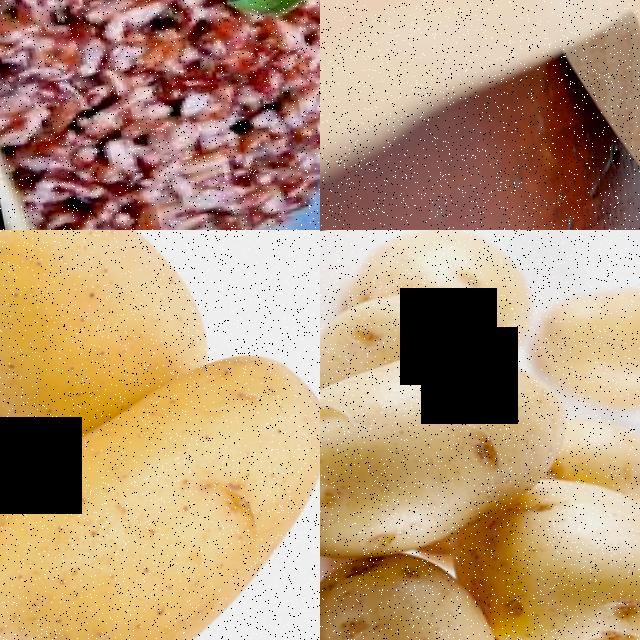potato: (0, 331, 320, 640), (320, 330, 582, 557), (0, 230, 207, 405), (466, 451, 640, 640), (320, 533, 537, 640), (532, 267, 640, 420)
red rice: (0, 0, 319, 230)
